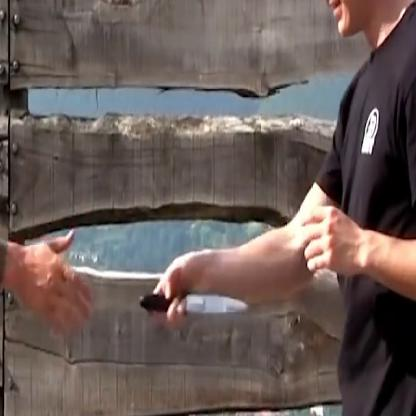knife: (136, 272, 254, 322)
